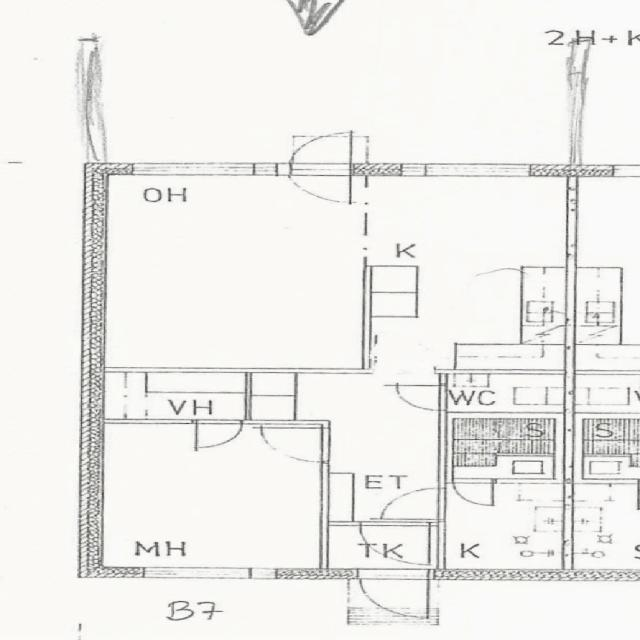door: (284, 130, 356, 206), (355, 572, 429, 618), (255, 422, 331, 466), (375, 486, 444, 523), (287, 170, 353, 206), (190, 418, 248, 452), (389, 381, 447, 413), (450, 479, 500, 509)
window: (121, 160, 275, 181), (410, 163, 537, 183), (138, 567, 257, 583)
zone: (95, 173, 369, 375), (93, 422, 326, 576), (364, 173, 576, 270), (440, 485, 569, 573), (444, 372, 565, 450), (104, 370, 256, 423), (566, 486, 634, 569), (333, 522, 439, 569), (578, 454, 638, 482)
